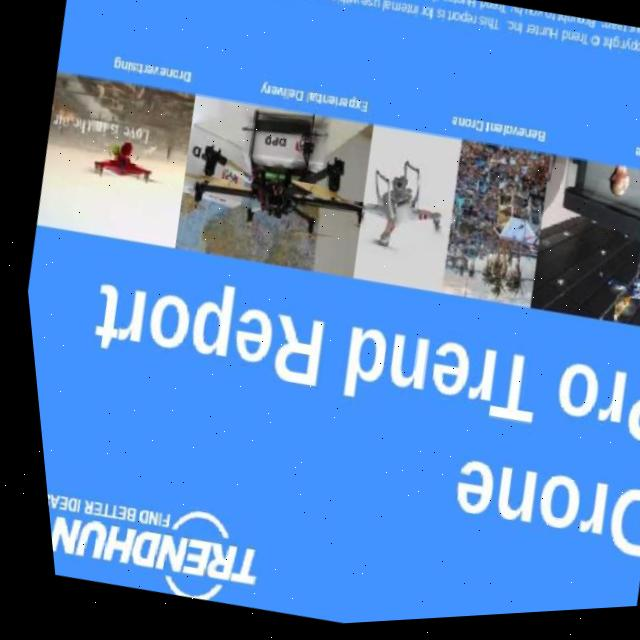drones: (18, 40, 640, 370)
